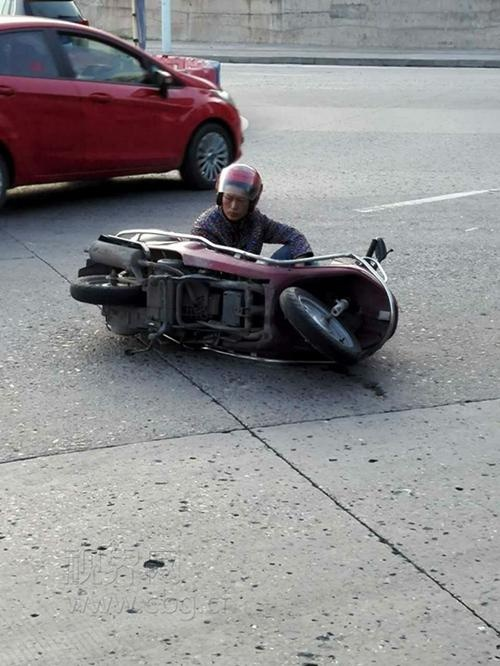falling: (188, 152, 321, 262)
